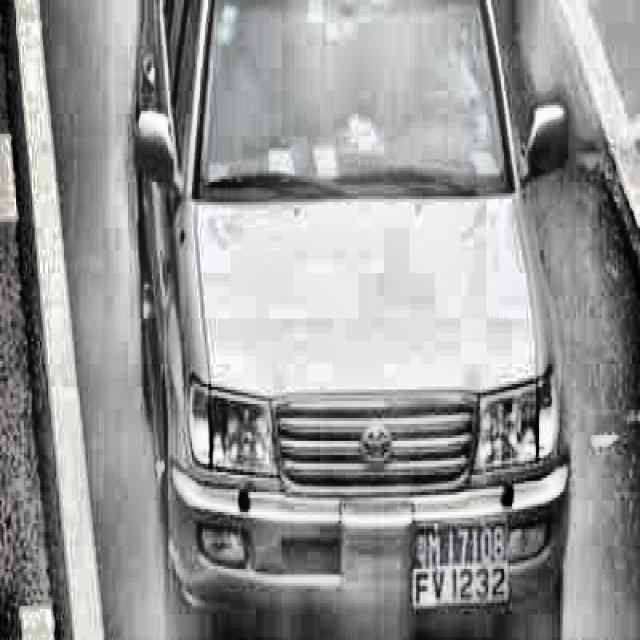license_plate: (409, 528, 510, 609)
